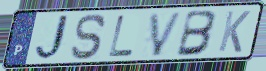B: (174, 9, 219, 58)
J: (33, 13, 74, 63)
K: (216, 10, 253, 55)
L: (107, 14, 137, 58)
S: (69, 12, 109, 61)
V: (149, 10, 186, 58)
